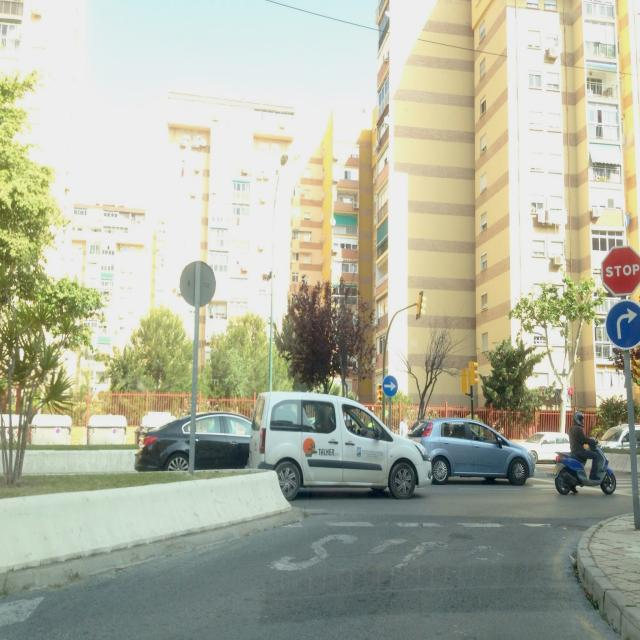bike: (554, 436, 618, 496)
car: (252, 391, 431, 502), (405, 416, 537, 486), (134, 411, 258, 473), (520, 432, 572, 464), (136, 411, 175, 443)
